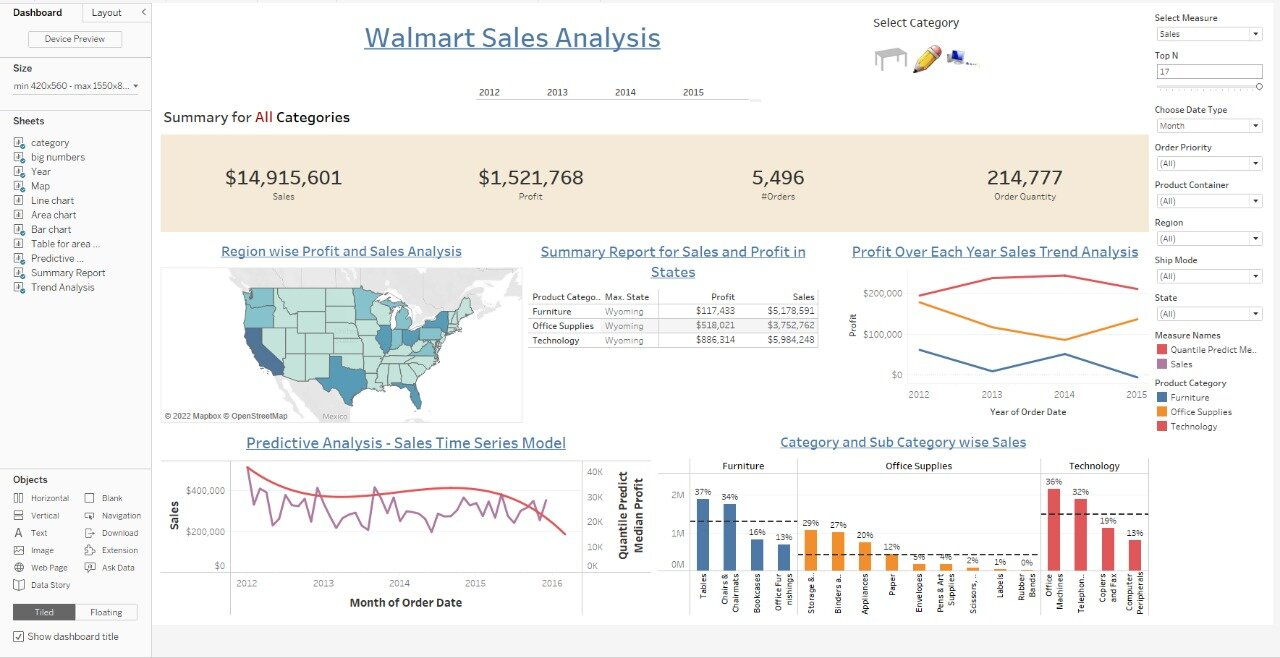

What the dashboard file says about the page in this screenshot:
{"tool":"tableau","page":{"name":"Dashboard","canvas":[1000,1000],"units":"permille","ordinal":0},"visuals":[{"type":"title","box":[5.2,9.3,632.9,88.4]},{"type":"worksheet","title":"category","mark":"Shape","box":[638.1,9.3,253.6,147.7]},{"type":"parameter","param":"[Parameters].[Parameter 1]","box":[891.6,9.3,103.2,60.5]},{"type":"parameter","param":"[Parameters].[Product Category Parameter]","box":[891.6,69.8,103.2,87.2]},{"type":"worksheet","title":"Year","mark":"Automatic","cols":["Order Date"],"box":[289,114,264.5,46.5]},{"type":"worksheet","title":"big numbers","mark":"Automatic","box":[5.2,157,886.5,216.3]},{"type":"parameter","param":"[Parameters].[Parameter 2]","box":[891.6,157,103.2,60.5]},{"type":"filter","title":"Bar chart","param":"[federated.0chbpal1ozi0gb1a8tpb40arvkoo].[none:Order Priority:nk]","box":[891.6,217.4,103.2,60.5]},{"type":"filter","title":"Bar chart","param":"[federated.0chbpal1ozi0gb1a8tpb40arvkoo].[none:Product Container:nk]","box":[891.6,277.9,103.2,60.5]},{"type":"filter","title":"Bar chart","param":"[federated.0chbpal1ozi0gb1a8tpb40arvkoo].[none:Region:nk]","box":[891.6,338.4,103.2,60.5]},{"type":"worksheet","title":"Map","mark":"Multipolygon","box":[5.2,373.2,327.7,307]},{"type":"worksheet","title":"Summary Report","mark":"Text","rows":["Product Category","State"],"box":[332.9,373.2,279.4,307]},{"type":"worksheet","title":"Trend Analysis","mark":"Automatic","rows":["Profit"],"cols":["Order Date"],"box":[612.2,373.2,279.4,307]},{"type":"filter","title":"Bar chart","param":"[federated.0chbpal1ozi0gb1a8tpb40arvkoo].[none:Ship Mode:nk]","box":[891.6,398.8,103.2,60.5]},{"type":"filter","title":"Bar chart","param":"[federated.0chbpal1ozi0gb1a8tpb40arvkoo].[none:State:nk]","box":[891.6,459.3,103.2,60.5]},{"type":"legend","title":"Predictive Analysis","param":"[federated.0chbpal1ozi0gb1a8tpb40arvkoo].[:Measure Names]","box":[891.6,519.7,103.2,76.7]},{"type":"legend","title":"Trend Analysis","param":"[federated.0chbpal1ozi0gb1a8tpb40arvkoo].[none:Product Category:nk]","box":[891.6,596.5,103.2,100]},{"type":"worksheet","title":"Predictive Analysis","mark":"Automatic","rows":["Sales","Calculation_1002613903243444224"],"cols":["Order Date"],"box":[5.2,680.2,443.2,310.5]},{"type":"worksheet","title":"Bar chart","mark":"Bar","rows":["Calculation_105834602925944833"],"cols":["Product Category","Product Sub-Category"],"box":[448.4,680.2,443.2,310.5]}]}

Visuals, with their boxes on the dashboard's canvas, which has no fixed pixel size, in thousandths of its width and height (x1, y1, x2, y2). These are canvas units, not pixel positions in the 1280x658 screenshot, which may show the page scaled, cropped or inside an application window:
title: 5:9:638:98
"category" worksheet (Shape marks): 638:9:892:157
parameter: 892:9:995:70
parameter: 892:70:995:157
"Year" worksheet: 289:114:554:160
"big numbers" worksheet: 5:157:892:373
parameter: 892:157:995:218
"Bar chart" filter: 892:217:995:278
"Bar chart" filter: 892:278:995:338
"Bar chart" filter: 892:338:995:399
"Map" worksheet (Multipolygon marks): 5:373:333:680
"Summary Report" worksheet (Text marks): 333:373:612:680
"Trend Analysis" worksheet: 612:373:892:680
"Bar chart" filter: 892:399:995:459
"Bar chart" filter: 892:459:995:520
"Predictive Analysis" legend: 892:520:995:596
"Trend Analysis" legend: 892:596:995:696
"Predictive Analysis" worksheet: 5:680:448:991
"Bar chart" worksheet (Bar marks): 448:680:892:991
